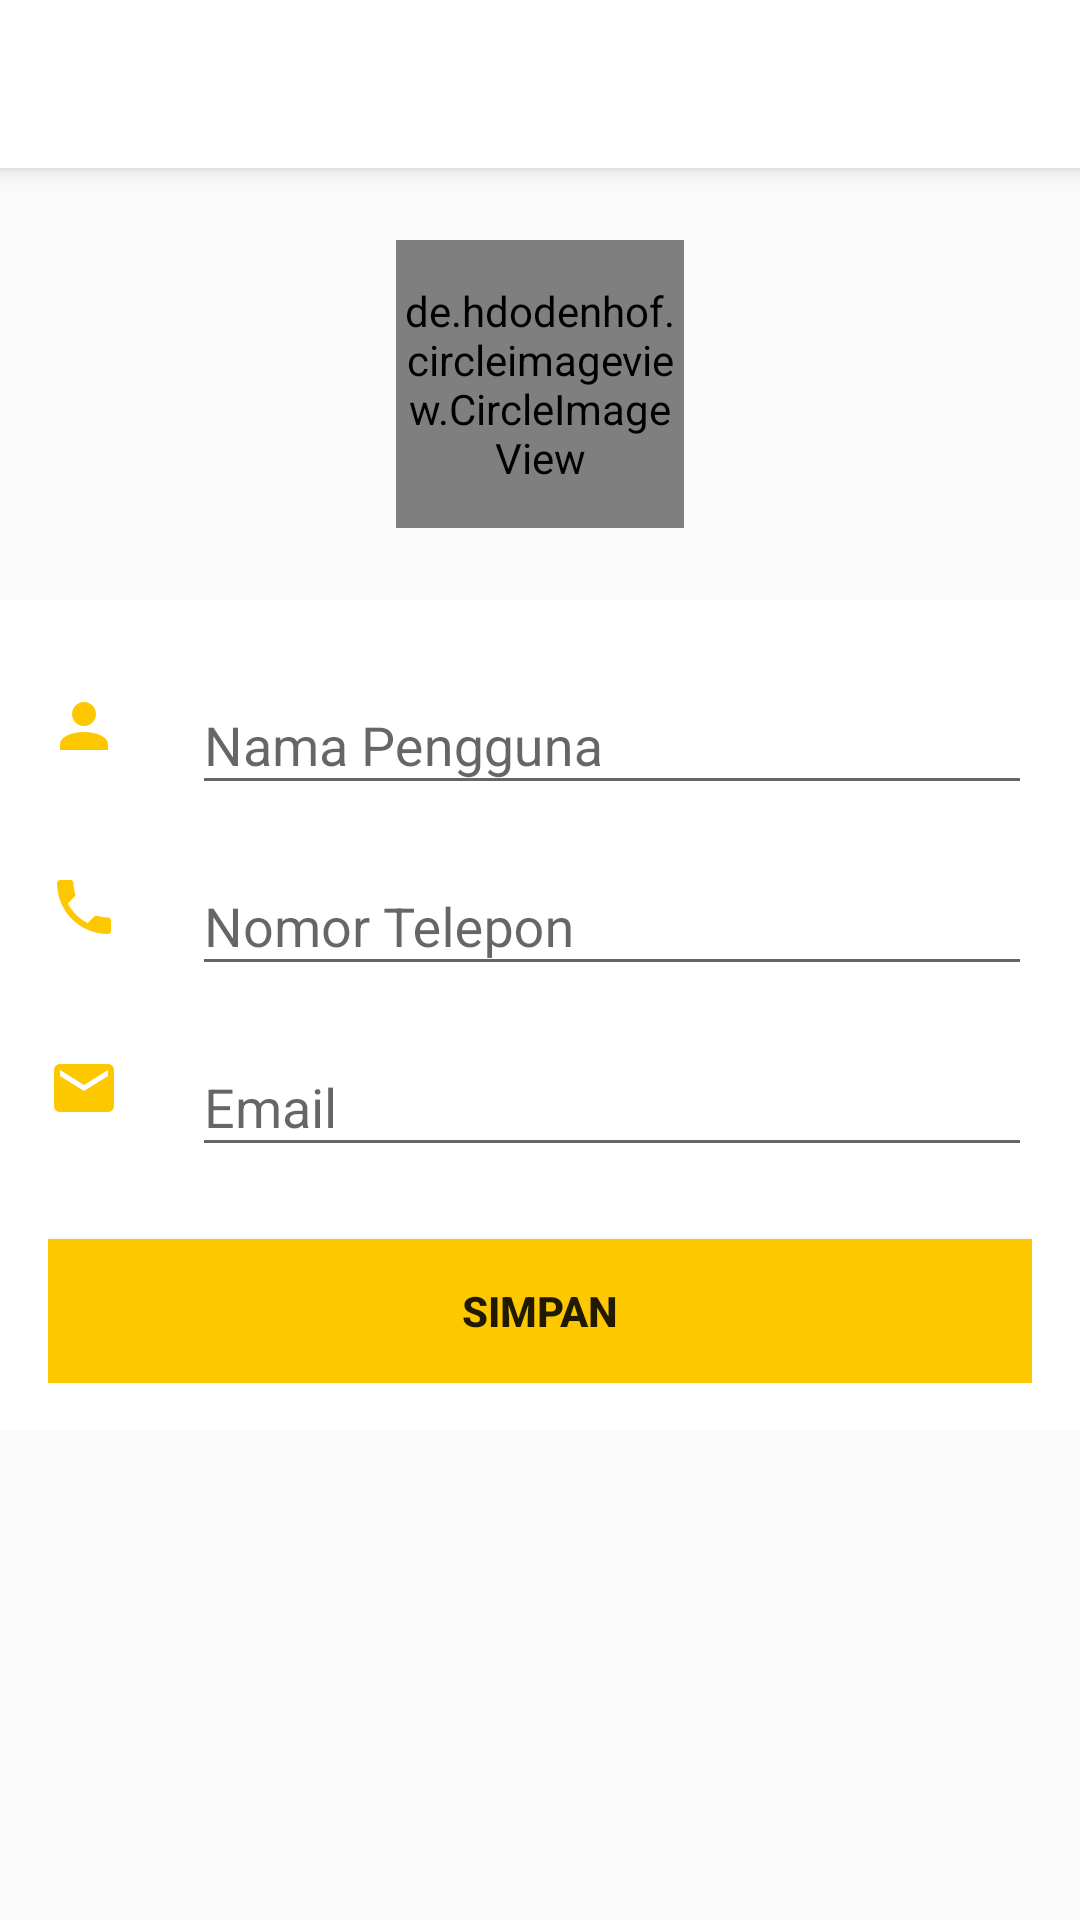

Icon bounding boxes for this 1080x1920 phone screenshot, format (x1, y1, x2, y2):
account: (60, 702, 108, 750)
phone: (57, 880, 111, 934)
